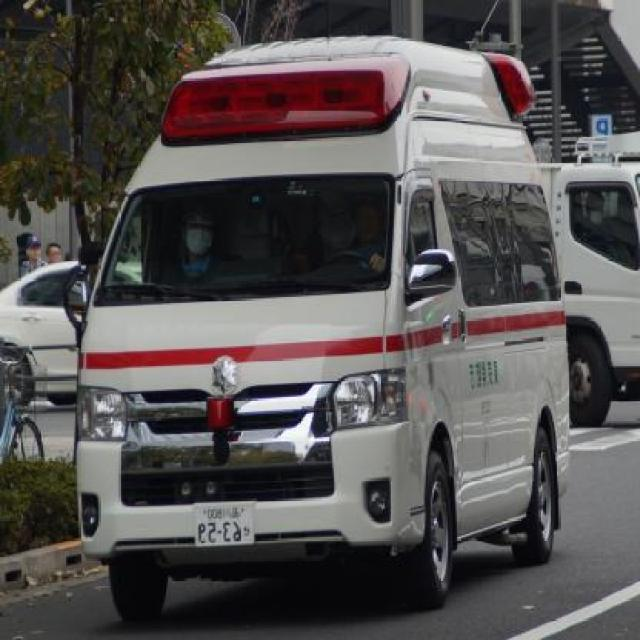emergency: (69, 33, 572, 622)
